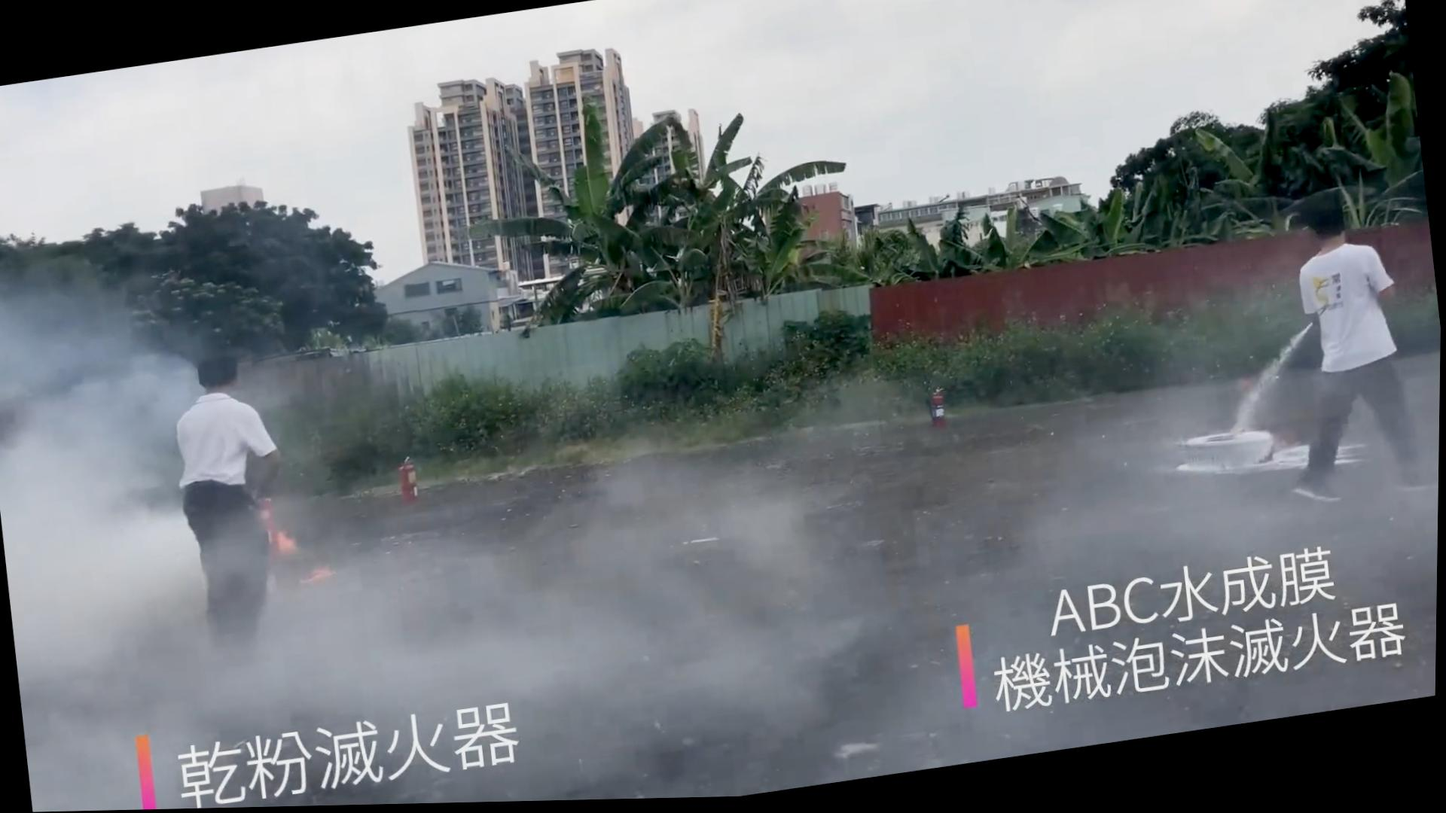FireExtinguisher: (247, 492, 288, 563), (920, 383, 964, 445), (390, 451, 428, 518)
not: (786, 183, 859, 268), (948, 619, 989, 726), (124, 724, 169, 811), (869, 288, 928, 346)
